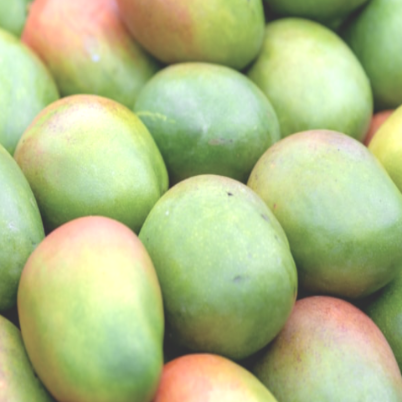mango: (123, 170, 309, 355), (4, 212, 181, 399), (245, 114, 402, 313), (125, 41, 289, 181)
